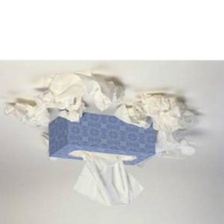book: (43, 107, 160, 171)
tissue: (66, 148, 149, 212), (27, 68, 128, 115), (108, 89, 206, 137), (130, 124, 200, 172), (0, 94, 54, 132), (53, 94, 91, 125), (37, 129, 61, 164)
